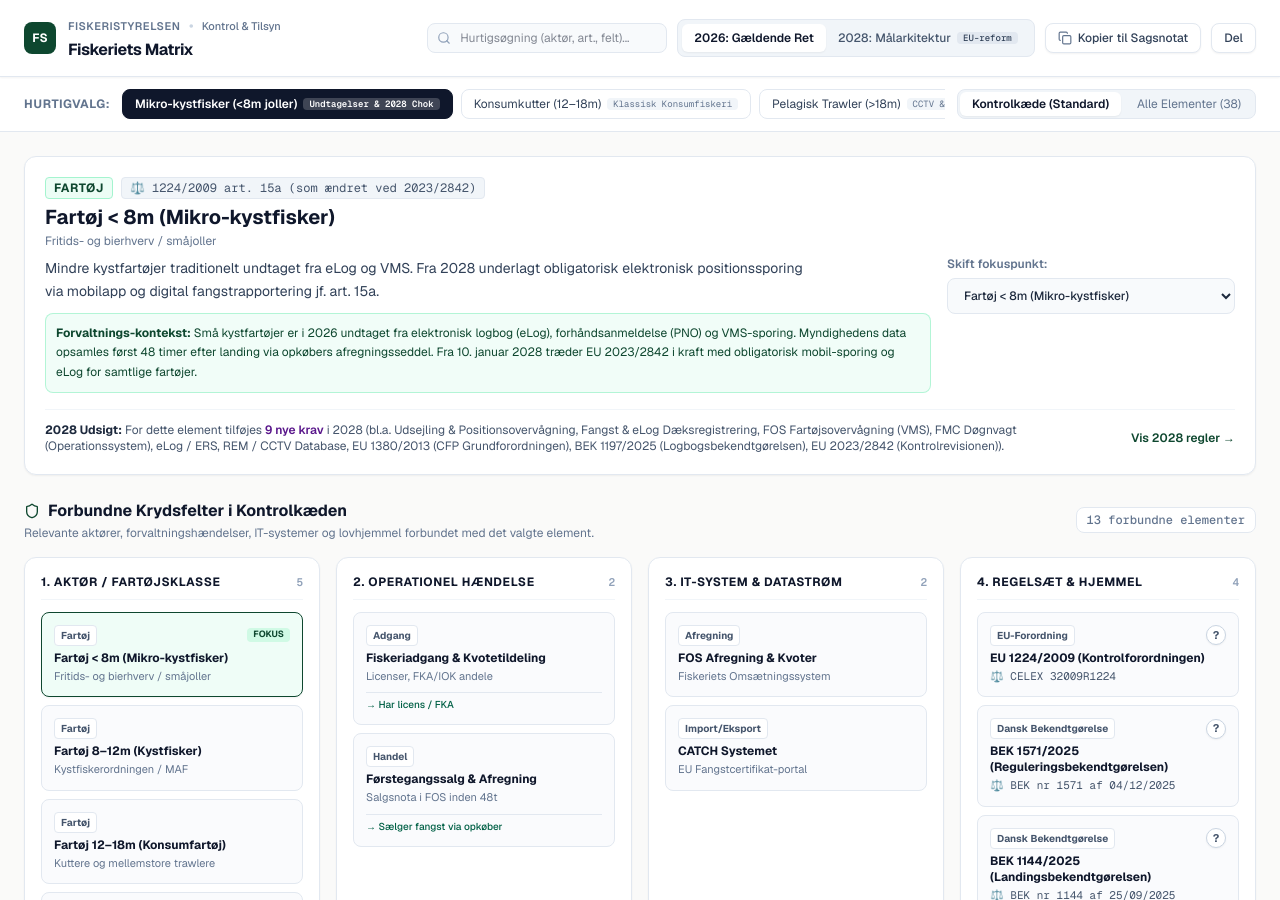
Scenario: Home Matrix Application › opens article inspector modal when clicking ? button on a regulation card
What coordinates should you click on to do the following:
click the button named "Se artikler"
I would click on:
 (1216, 635)
Its box is [1206, 625, 1226, 645].
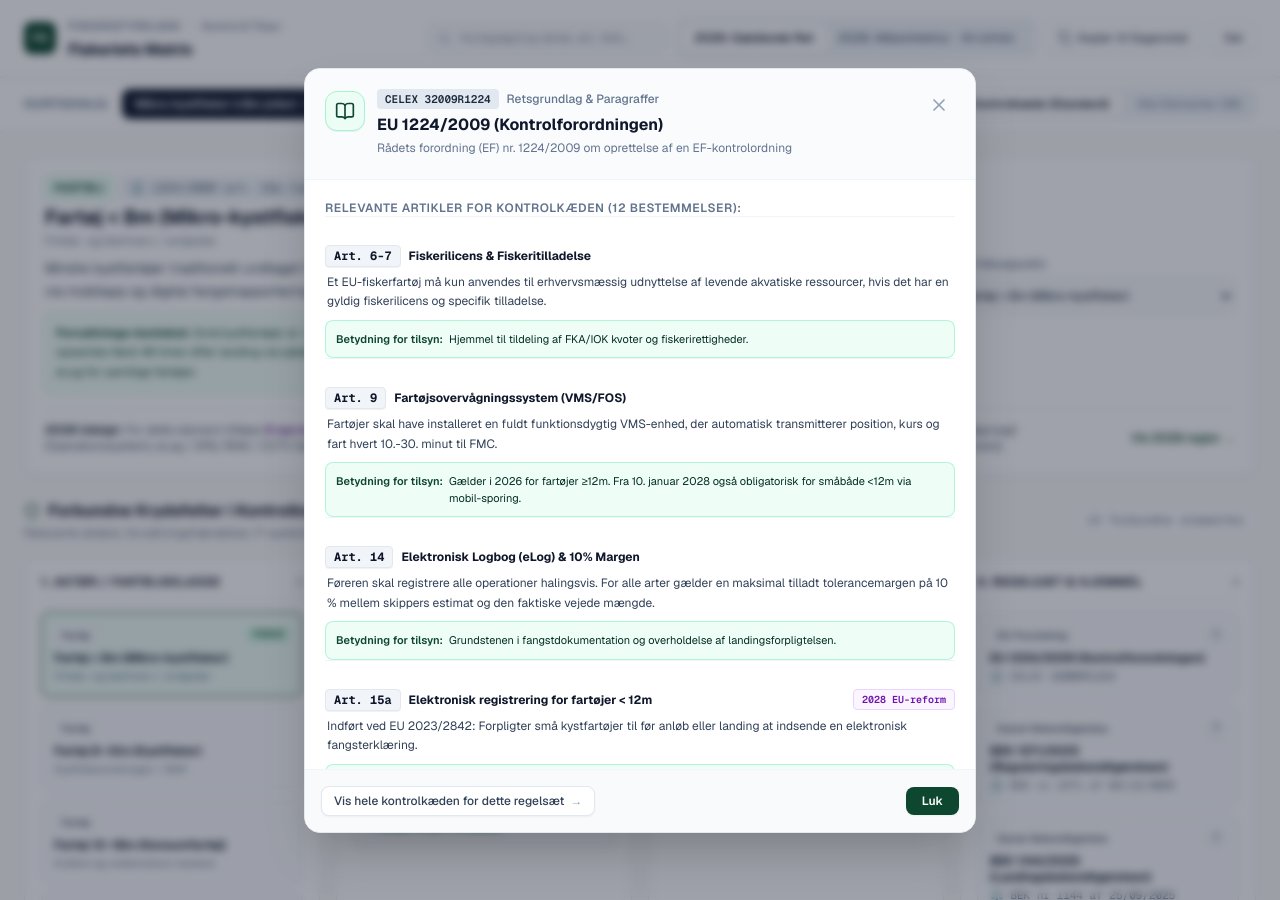
Check: the dialog is shown
Check: the text "Retsgrundlag & Paragraffer" is shown, box [507, 91, 659, 107]
Check: the text "Relevante artikler for kontrolkæden (12 bestemmelser):" is shown, box [325, 200, 955, 216]
# Close button works
What coordinates should you click on to do the following:
click the button "Luk"
I would click on:
 (932, 800)
Its box is [906, 786, 959, 814].
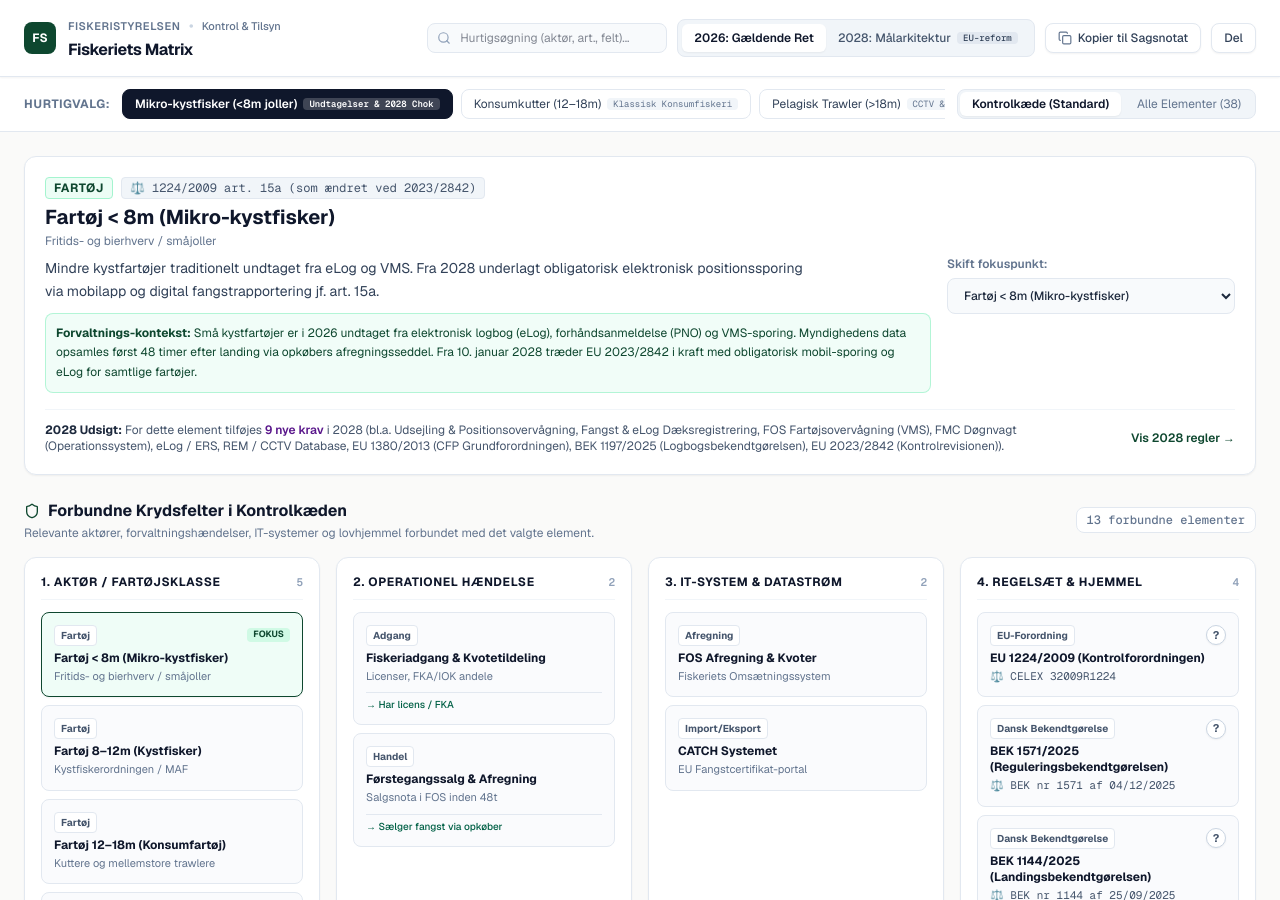
Check: the dialog is gone
